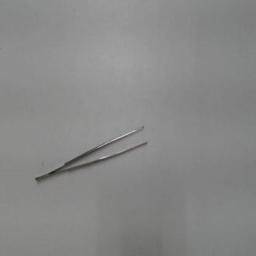Gillies Toothed Dissector: (32, 118, 154, 188)
